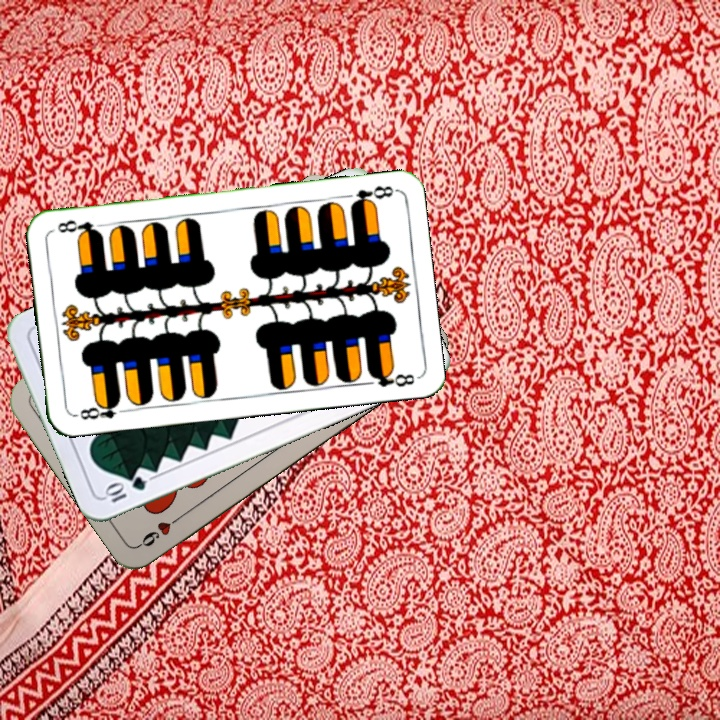E8: (71, 396, 130, 423), (346, 181, 398, 210)
G10: (100, 472, 149, 505)
H9: (135, 509, 187, 550)
